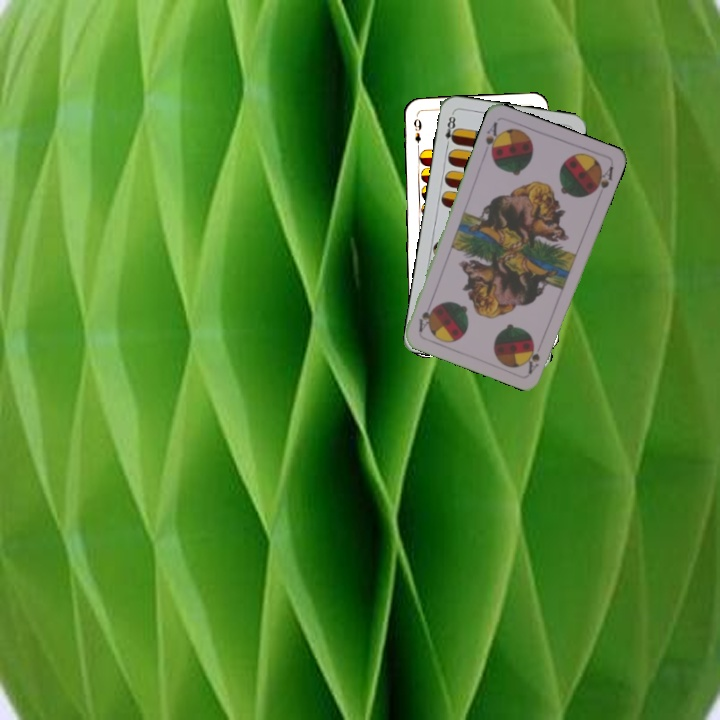E8: (441, 110, 460, 150)
E9: (410, 114, 424, 152)
SA: (481, 118, 503, 159), (524, 342, 542, 376)
